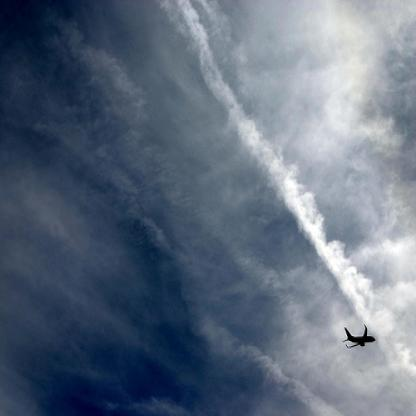aeroplane: (342, 322, 376, 350)
